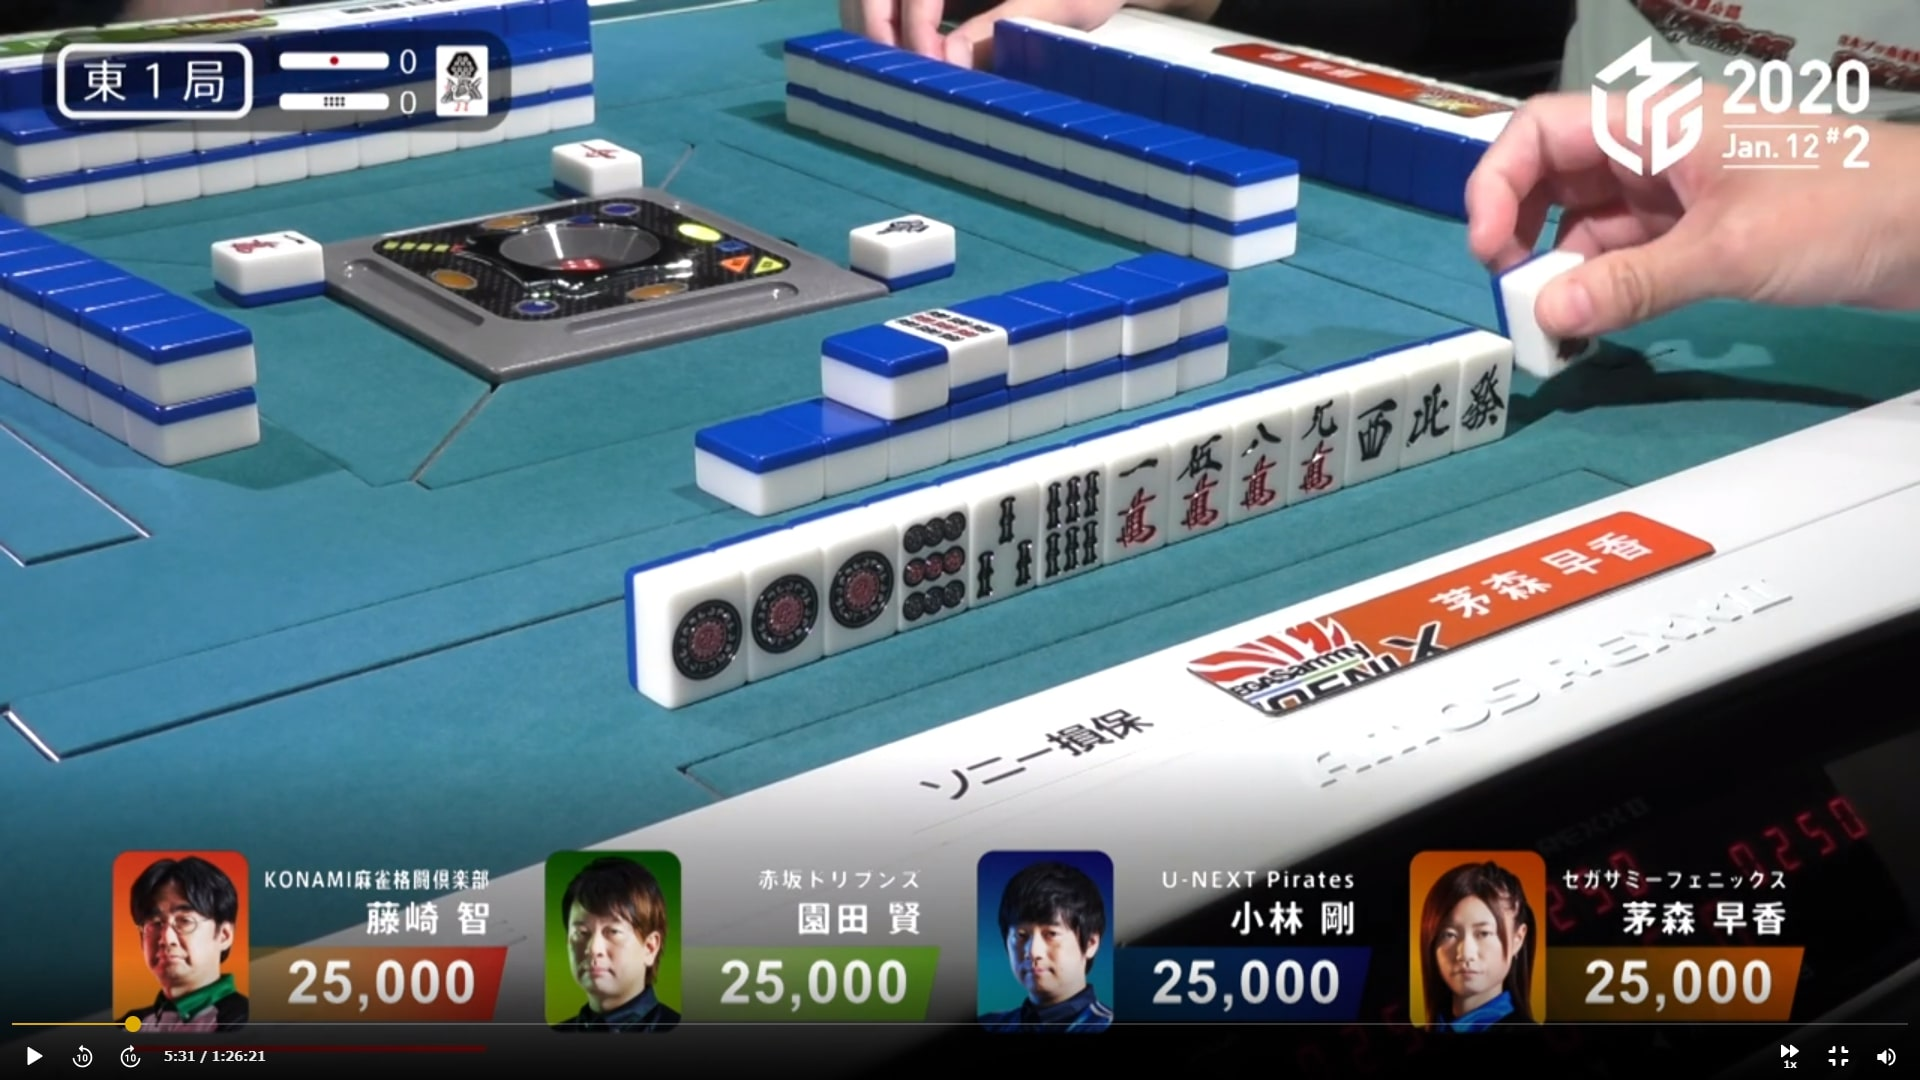1m: (1104, 450, 1160, 553)
1p: (824, 535, 897, 644), (673, 585, 742, 688), (752, 566, 822, 661)
3s: (968, 492, 1034, 593)
5m: (1174, 427, 1222, 527)
6s: (1040, 467, 1098, 578)
8m: (1230, 411, 1280, 514)
9m: (1292, 398, 1341, 495)
9p: (901, 512, 968, 618)
hand_ton_1: (46, 33, 264, 127)
hatsu: (1455, 352, 1505, 440)
pei: (1402, 363, 1448, 464)
round_0: (273, 86, 422, 119)
sha: (1348, 378, 1390, 479)
team_segasammy: (1185, 587, 1482, 717)
